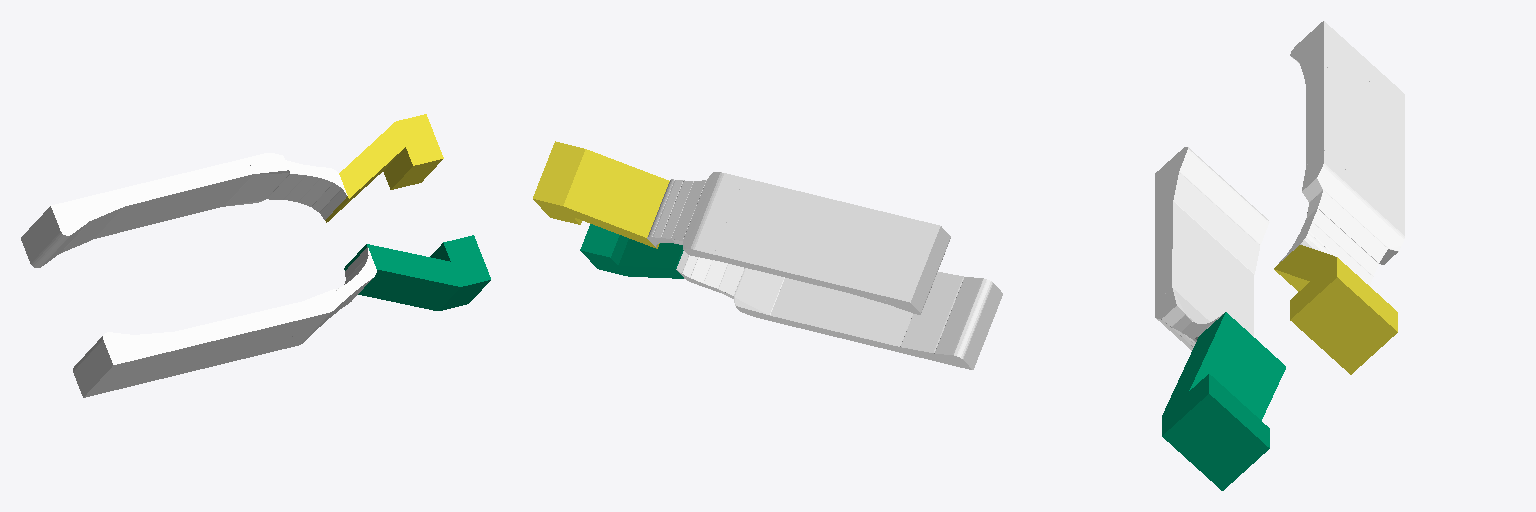
robot.urdf — panda:
<?xml version="1.0" ?>

<!-- =================================================================================== -->
<!-- |    This document was autogenerated by xacro from panda_arm.urdf.xacro           | -->
<!-- |    EDITING THIS FILE BY HAND IS NOT RECOMMENDED                                 | -->
<!-- =================================================================================== -->
<robot name="panda" xmlns:xacro="http://www.ros.org/wiki/xacro">
  <link name="panda_link0">
    <visual>
      <geometry>
        <mesh filename="meshes/visual/link0.dae"/>
      </geometry>
    </visual>
    <collision>
      <geometry>
        <mesh filename="meshes/collision/link0.stl"/>
      </geometry>
    </collision>
    <inertial>
        <mass value="3.06"/>
        <inertia ixx="0.3" ixy="0.0" ixz="0.0" iyy="0.3" iyz="0.0" izz="0.3"/>
      </inertial>
  </link>
  <link name="panda_link1">
    <visual>
      <geometry>
        <mesh filename="meshes/visual/link1.dae"/>
      </geometry>
    </visual>
    <collision>
      <geometry>
        <mesh filename="meshes/collision/link1.stl"/>
      </geometry>
    </collision>
    <inertial>
        <mass value="2.34"/>
        <inertia ixx="0.3" ixy="0.0" ixz="0.0" iyy="0.3" iyz="0.0" izz="0.3"/>
      </inertial>
  </link>
  <joint name="panda_joint1" type="revolute">
    <safety_controller k_position="100.0" k_velocity="40.0" soft_lower_limit="-2.8973" soft_upper_limit="2.8973"/>
    <origin rpy="0 0 0" xyz="0 0 0.333"/>
    <parent link="panda_link0"/>
    <child link="panda_link1"/>
    <axis xyz="0 0 1"/>
    <dynamics damping="1.0" />
    <limit effort="87" lower="-2.8973" upper="2.8973" velocity="2.1750"/>
  </joint>
  <link name="panda_link2">
    <visual>
      <geometry>
        <mesh filename="meshes/visual/link2.dae"/>
      </geometry>
    </visual>
    <collision>
      <geometry>
        <mesh filename="meshes/collision/link2.stl"/>
      </geometry>
    </collision>
    <inertial>
        <mass value="2.36"/>
        <inertia ixx="0.3" ixy="0.0" ixz="0.0" iyy="0.3" iyz="0.0" izz="0.3"/>
      </inertial>
  </link>
  <joint name="panda_joint2" type="revolute">
    <safety_controller k_position="100.0" k_velocity="40.0" soft_lower_limit="-1.7628" soft_upper_limit="1.7628"/>
    <origin rpy="-1.57079632679 0 0" xyz="0 0 0"/>
    <!-- <origin rpy="-1.57079632679 1.5 0" xyz="0 0 0"/> -->
    <parent link="panda_link1"/>
    <child link="panda_link2"/>
    <axis xyz="0 0 1"/>
    <dynamics damping="1.0" />
    <limit effort="87" lower="-1.7628" upper="1.7628" velocity="2.1750"/>
  </joint>
  <link name="panda_link3">
    <visual>
      <geometry>
        <mesh filename="meshes/visual/link3.dae"/>
      </geometry>
    </visual>
    <collision>
      <geometry>
        <mesh filename="meshes/collision/link3.stl"/>
      </geometry>
    </collision>
    <inertial>
        <mass value="2.38"/>
        <inertia ixx="0.3" ixy="0.0" ixz="0.0" iyy="0.3" iyz="0.0" izz="0.3"/>
      </inertial>

  </link>
  <joint name="panda_joint3" type="revolute">
    <safety_controller k_position="100.0" k_velocity="40.0" soft_lower_limit="-2.8973" soft_upper_limit="2.8973"/>
    <origin rpy="1.57079632679 0 0" xyz="0 -0.316 0"/>
    <parent link="panda_link2"/>
    <child link="panda_link3"/>
    <axis xyz="0 0 1"/>
    <dynamics damping="1.0" />
    <limit effort="87" lower="-2.8973" upper="2.8973" velocity="2.1750"/>
  </joint>
  <link name="panda_link4">
    <visual>
      <geometry>
        <mesh filename="meshes/visual/link4.dae"/>
      </geometry>
    </visual>
    <collision>
      <geometry>
        <mesh filename="meshes/collision/link4.stl"/>
      </geometry>
    </collision>
    <inertial>
      <mass value="2.43"/>
      <inertia ixx="0.3" ixy="0.0" ixz="0.0" iyy="0.3" iyz="0.0" izz="0.3"/>
      </inertial>
  </link>
  <joint name="panda_joint4" type="revolute">
    <safety_controller k_position="100.0" k_velocity="40.0" soft_lower_limit="-3.0718" soft_upper_limit="-0.0698"/>
    <origin rpy="1.57079632679 0 0" xyz="0.0825 0 0"/>
    <parent link="panda_link3"/>
    <child link="panda_link4"/>
    <axis xyz="0 0 1"/>
    <dynamics damping="1.0" />
    <limit effort="87" lower="-3.0718" upper="-0.0698" velocity="2.1750"/>
  </joint>
  <link name="panda_link5">
    <visual>
      <geometry>
        <mesh filename="meshes/visual/link5.dae"/>
      </geometry>
    </visual>
    <collision>
      <geometry>
        <mesh filename="meshes/collision/link5.stl"/>
      </geometry>
    </collision>
    <inertial>
        <mass value="3.5"/>
        <inertia ixx="0.3" ixy="0.0" ixz="0.0" iyy="0.3" iyz="0.0" izz="0.3"/>
      </inertial>
  </link>

  <joint name="panda_joint5" type="revolute">
    <safety_controller k_position="100.0" k_velocity="40.0" soft_lower_limit="-2.8973" soft_upper_limit="2.8973"/>
    <origin rpy="-1.57079632679 0 0" xyz="-0.0825 0.384 0"/>
    <parent link="panda_link4"/>
    <child link="panda_link5"/>
    <axis xyz="0 0 1"/>
    <dynamics damping="1.0" />
    <limit effort="12" lower="-2.8973" upper="2.8973" velocity="2.6100"/>
  </joint>
  <link name="panda_link6">
    <visual>
      <geometry>
        <mesh filename="meshes/visual/link6.dae"/>
      </geometry>
    </visual>
    <collision>
      <geometry>
        <mesh filename="meshes/collision/link6.stl"/>
      </geometry>
    </collision>
     <inertial>
        <mass value="1.47"/>
        <inertia ixx="0.3" ixy="0.0" ixz="0.0" iyy="0.3" iyz="0.0" izz="0.3"/>
      </inertial>
  </link>
  <joint name="panda_joint6" type="revolute">
    <safety_controller k_position="100.0" k_velocity="40.0" soft_lower_limit="-0.0175" soft_upper_limit="3.7525"/>
    <origin rpy="1.57079632679 0 0" xyz="0 0 0"/>
    <parent link="panda_link5"/>
    <child link="panda_link6"/>
    <axis xyz="0 0 1"/>
    <dynamics damping="1.0" />
    <limit effort="12" lower="-0.0175" upper="3.7525" velocity="2.6100"/>
  </joint>
  <link name="panda_link7">
    <visual>
      <geometry>
        <mesh filename="meshes/visual/link7.dae"/>
      </geometry>
    </visual>
    <collision>
      <geometry>
        <mesh filename="meshes/collision/link7.stl"/>
      </geometry>
    </collision>
    <inertial>
        <mass value="0.45"/>
        <inertia ixx="0.3" ixy="0.0" ixz="0.0" iyy="0.3" iyz="0.0" izz="0.3"/>
      </inertial>
  </link>
  <joint name="panda_joint7" type="revolute">
    <safety_controller k_position="100.0" k_velocity="40.0" soft_lower_limit="-2.8973" soft_upper_limit="2.8973"/>
    <origin rpy="1.57079632679 0 0" xyz="0.088 0 0"/>
    <parent link="panda_link6"/>
    <child link="panda_link7"/>
    <axis xyz="0 0 1"/>
    <dynamics damping="1.0" />
    <limit effort="12" lower="-2.8973" upper="2.8973" velocity="2.6100"/>
  </joint>
  <link name="panda_link8">
    <inertial>
      <mass value="0.001"/>
      <inertia ixx="0.3" ixy="0.0" ixz="0.0" iyy="0.3" iyz="0.0" izz="0.3"/>
      </inertial>
  </link>
  <joint name="panda_joint8" type="fixed">
    <origin rpy="0 0 0" xyz="0 0 0.107"/>
    <parent link="panda_link7"/>
    <child link="panda_link8"/>
    <axis xyz="0 0 0"/>
    <dynamics damping="100" />
  </joint>
  <joint name="panda_hand_joint" type="fixed">
    <parent link="panda_link8"/>
    <child link="panda_hand"/>
    <origin rpy="0 0 -0.785" xyz="0 0 0"/>
  </joint>
  <!-- <joint name="panda_hand_joint" type="revolute">
    <parent link="panda_link8"/>
    <child link="panda_hand"/>
    <origin rpy="0 0 0" xyz="0 0 0"/>
    <axis xyz="0 0 1"/>
    <limit effort="12" lower="-0.78" upper="-0.78" velocity="0.01"/>
  </joint> -->
  <link name="panda_hand">
    <visual>
      <geometry>
        <mesh filename="meshes/visual/hand.dae"/>
      </geometry>
    </visual>
    <collision>
      <geometry>
        <mesh filename="meshes/collision/hand.stl"/>
      </geometry>
    </collision>
     <inertial>
        <mass value="0.68"/>
        <inertia ixx="0.1" ixy="0.0" ixz="0.0" iyy="0.1" iyz="0.0" izz="0.1"/>
      </inertial>
  </link>

  <link name="panda_leftfinger_upper">
    <visual>
      <origin rpy="0 0 0" xyz="0 0 0"/>
      <geometry>
        <mesh filename="meshes/collision/finger_upper_v2.stl"/>
      </geometry>
    </visual>
    <collision>
      <origin rpy="0 0 0" xyz="0 0 0"/>
      <geometry>
        <mesh filename="meshes/collision/finger_upper_v2.stl"/>
      </geometry>
    </collision>
    <inertial>
        <mass value="0.01"/>
        <inertia ixx="0.1" ixy="0.0" ixz="0.0" iyy="0.1" iyz="0.0" izz="0.1"/>
      </inertial>
  </link>
  <link name="panda_rightfinger_upper">
    <visual>
      <origin rpy="0 0 3.14" xyz="0 0 0"/>
      <geometry>
        <mesh filename="meshes/collision/finger_upper_v2.stl"/>
      </geometry>
    </visual>
    <collision>
      <origin rpy="0 0 3.14" xyz="0 0 0"/>
      <geometry>
        <mesh filename="meshes/collision/finger_upper_v2.stl"/>
      </geometry>
    </collision>
    <inertial>
        <mass value="0.01"/>
        <inertia ixx="0.1" ixy="0.0" ixz="0.0" iyy="0.1" iyz="0.0" izz="0.1"/>
      </inertial>
  </link>
  <joint name="panda_finger_joint1" type="prismatic">
    <parent link="panda_hand"/>
    <child link="panda_leftfinger_upper"/>
    <origin rpy="0 0 0" xyz="0 0 0.065"/>
    <axis xyz="0 1 0"/>
    <limit effort="20" lower="0" upper="0.04" velocity="10"/>
  </joint>
  <joint name="panda_finger_joint2" type="prismatic">
    <parent link="panda_hand"/>
    <child link="panda_rightfinger_upper"/>
    <origin rpy="0 0 0" xyz="0 0 0.065"/>
    <axis xyz="0 -1 0"/>
    <limit effort="20" lower="0" upper="0.04" velocity="10"/>
    <mimic joint="panda_finger_joint1"/>
  </joint>

  <link name="panda_leftfinger_lower">
    <visual>
      <origin rpy="0 0 0" xyz="0 0 0.029"/>
      <geometry>
        <!-- <box size="0.018 0.015 0.108"/> -->
        <mesh filename="meshes/collision/franka_finger_lower_wide_curved_decom.obj"/>
      </geometry>
      <material name="white">
				<color rgba="1. 1. 1. 1"/>
			</material>
    </visual>
    <collision>
      <origin rpy="0 0 0" xyz="0 0 0.029"/>
      <geometry>
        <!-- <box size="0.018 0.015 0.108"/> -->
        <mesh filename="meshes/collision/franka_finger_lower_wide_curved_decom.obj"/>
      </geometry>
    </collision>
    <inertial>
        <mass value="0.01"/>
        <inertia ixx="0.1" ixy="0.0" ixz="0.0" iyy="0.1" iyz="0.0" izz="0.1"/>
      </inertial>
		<!-- <contact>
			<stiffness value="3000.0"/>
			<damping value="100.0"/>
		</contact> -->
  </link>
  <link name="panda_rightfinger_lower">
    <visual>
      <origin rpy="0 0 3.14" xyz="0 0 0.029"/>
      <geometry>
        <!-- <box size="0.018 0.015 0.108"/> -->
        <mesh filename="meshes/collision/franka_finger_lower_wide_curved_decom.obj"/>
      </geometry>
      <material name="white">
				<color rgba="1. 1. 1. 1"/>
			</material>
    </visual>
    <collision>
      <origin rpy="0 0 3.14" xyz="0 0 0.029"/>
      <geometry>
        <mesh filename="meshes/collision/franka_finger_lower_wide_curved_decom.obj"/>
        <!-- <box size="0.018 0.015 0.108"/> -->
      </geometry>
    </collision>
    <inertial>
        <mass value="0.01"/>
        <inertia ixx="0.1" ixy="0.0" ixz="0.0" iyy="0.1" iyz="0.0" izz="0.1"/>
      </inertial>
		<!-- <contact>
			<stiffness value="3000.0"/>
			<damping value="100.0"/>
		</contact> -->
  </link>
  <joint name="panda_finger_lower_joint1" type="fixed">
    <parent link="panda_leftfinger_upper"/>
    <child link="panda_leftfinger_lower"/>
    <origin rpy="0 0 0" xyz="0 0 0"/>
  </joint>
  <joint name="panda_finger_lower_joint2" type="fixed">
    <parent link="panda_rightfinger_upper"/>
    <child link="panda_rightfinger_lower"/>
    <origin rpy="0 0 0" xyz="0 0 0"/>
    <mimic joint="panda_finger_lower_joint1"/>
  </joint>
</robot>

--- Render facts (derived) ---
The picture shows the robot from 3 angles, left to right: view 1: azimuth 30°, elevation 25°; view 2: azimuth 150°, elevation 25°; view 3: azimuth 270°, elevation 25°; orthographic projection.
Robot: panda — 14 links, 13 joints (7 revolute, 2 prismatic, 4 fixed); root link panda_link0; default pose: joints at zero except 1 at the middle of their limits (panda_joint4 = -1.57).
Links seen in each view (by area): view 1: panda_rightfinger_lower, panda_leftfinger_lower, panda_leftfinger_upper, panda_rightfinger_upper; view 2: panda_rightfinger_lower, panda_leftfinger_lower, panda_rightfinger_upper, panda_leftfinger_upper; view 3: panda_rightfinger_lower, panda_leftfinger_lower, panda_leftfinger_upper, panda_rightfinger_upper.
Link boxes in pixels (box(x1,y1,x2,y2)): panda_rightfinger_lower: box(21, 153, 347, 267); panda_leftfinger_lower: box(73, 247, 376, 397); panda_leftfinger_upper: box(344, 235, 490, 310); panda_rightfinger_upper: box(325, 114, 443, 222); panda_rightfinger_lower: box(647, 172, 950, 314); panda_leftfinger_lower: box(676, 251, 1002, 369); panda_rightfinger_upper: box(533, 141, 669, 248); panda_leftfinger_upper: box(580, 224, 683, 278); panda_rightfinger_lower: box(1279, 21, 1404, 285); panda_leftfinger_lower: box(1155, 147, 1269, 350); panda_leftfinger_upper: box(1162, 312, 1285, 490); panda_rightfinger_upper: box(1274, 245, 1397, 374).
Bounding box of the posed robot: 0.124 × 0.0525 × 0.0525 m (x, y, z).
Meshes: 11 distinct files referenced, 4 mesh visuals loaded (1 binary STL, 1 OBJ); not drawn: 9 (reference not matched to a file when rendering).